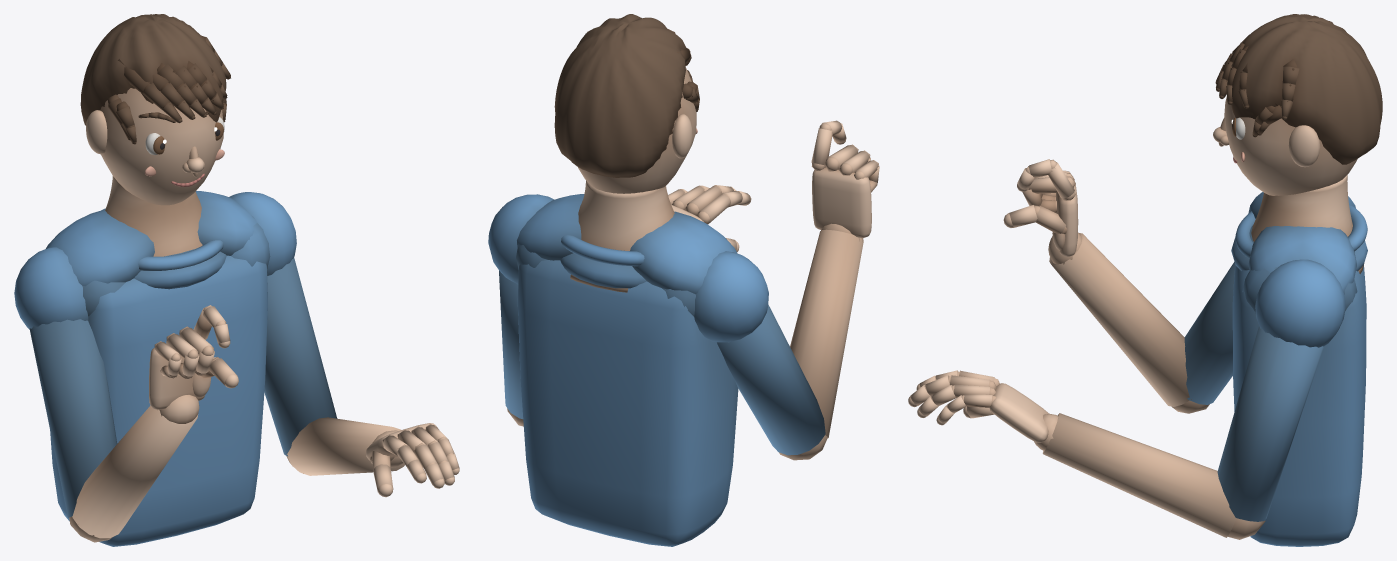
3 renders of one model, left to right at view 1: azimuth 30°, elevation 25°; view 2: azimuth 150°, elevation 25°; view 3: azimuth 270°, elevation 25°, orthographic.
Visible parts, largest first — view 1: LSC_Body; view 2: LSC_Body; view 3: LSC_Body.
Part boxes in pixels (x1,y1,x2,y2): LSC_Body: (14, 14, 459, 546); LSC_Body: (488, 14, 879, 546); LSC_Body: (908, 14, 1382, 546).
Bounding box in the file's own units: 0.4304 × 0.713 × 0.6104.
